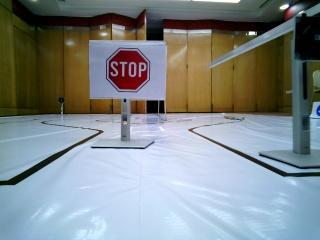stop: (93, 42, 157, 93)
